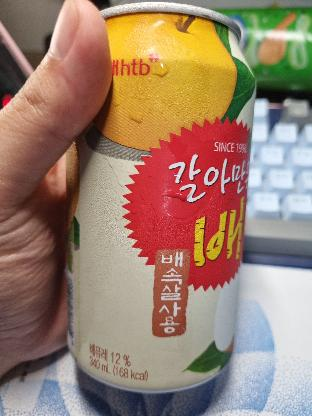Can: (74, 0, 252, 386)
